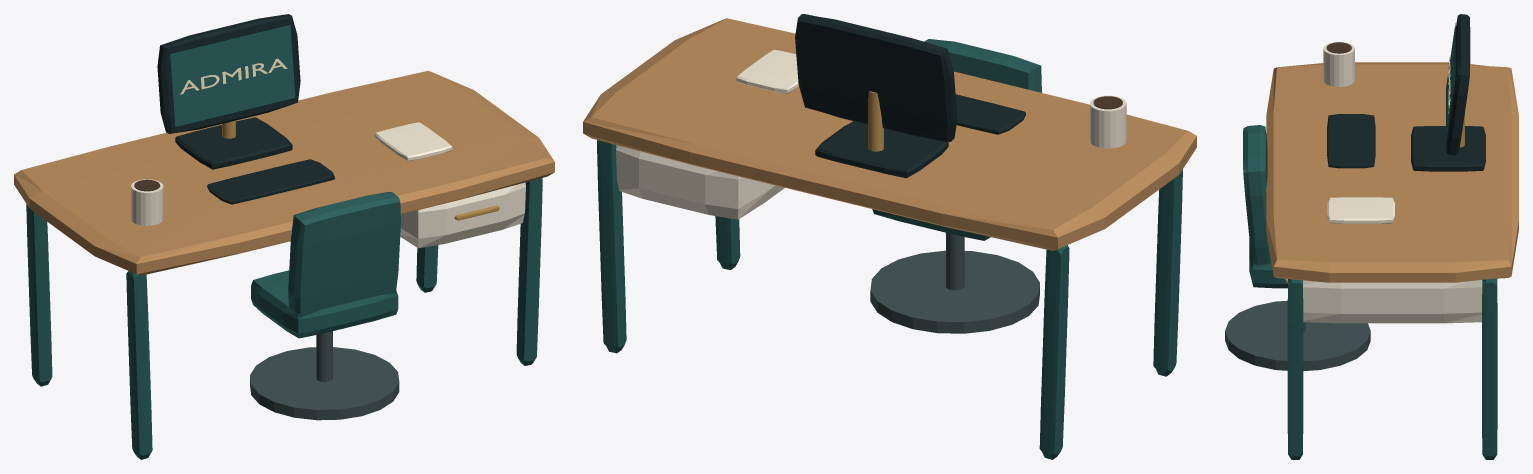
The model's file is best.glb.
3 views of the same model, side by side, from view 1: azimuth 30°, elevation 25°; view 2: azimuth 150°, elevation 25°; view 3: azimuth 270°, elevation 25° (orthographic). The views are drawn at different scales.
Visible parts, largest first — view 1: Native component 0, Native component 10, Native component 16, Native component 8, Native component 4, Native component 1, Native component 5, Sign ADMIRA; view 2: Native component 0, Native component 16, Native component 10, Native component 8, Native component 1, Native component 5, Native component 2; view 3: Native component 0, Native component 10, Native component 1, Native component 16, Native component 8, Native component 5, Native component 4.
Part boxes in pixels (left/top/right/bottom): Native component 0: left=14, top=70, right=554, bottom=275; Native component 10: left=26, top=178, right=542, bottom=459; Native component 16: left=157, top=14, right=334, bottom=204; Native component 8: left=250, top=331, right=399, bottom=420; Native component 4: left=170, top=25, right=295, bottom=126; Native component 1: left=131, top=179, right=525, bottom=248; Native component 5: left=374, top=122, right=452, bottom=161; Sign ADMIRA: left=180, top=58, right=287, bottom=94; Native component 0: left=583, top=18, right=1196, bottom=250; Native component 16: left=795, top=14, right=1025, bottom=178; Native component 10: left=597, top=39, right=1182, bottom=459; Native component 8: left=870, top=233, right=1039, bottom=333; Native component 1: left=616, top=95, right=1126, bottom=219; Native component 5: left=736, top=49, right=798, bottom=93; Native component 2: left=868, top=91, right=883, bottom=151; Native component 0: left=1266, top=62, right=1518, bottom=282; Native component 10: left=1243, top=125, right=1497, bottom=459; Native component 1: left=1303, top=42, right=1482, bottom=323; Native component 16: left=1327, top=14, right=1485, bottom=171; Native component 8: left=1225, top=300, right=1370, bottom=370; Native component 5: left=1327, top=197, right=1394, bottom=223; Native component 4: left=1446, top=23, right=1455, bottom=143.
Bounding box in the file's own units: 2.05 × 1.43 × 1.21.
